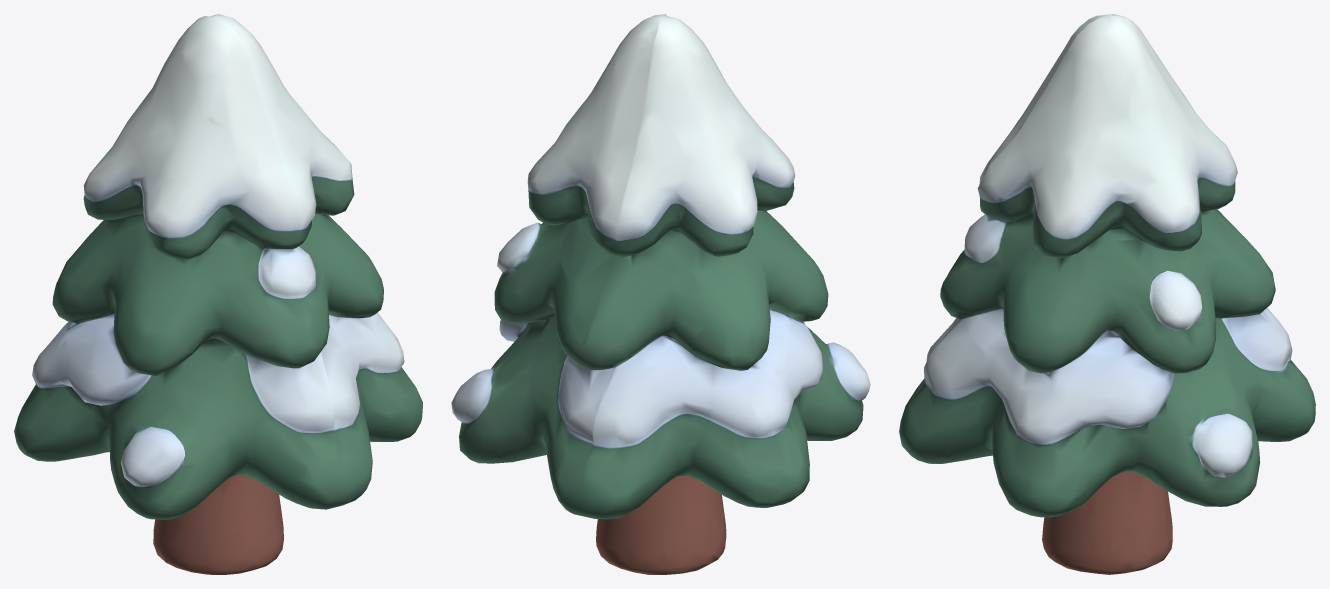
Rendered from tree-c.glb.
3 views of the same model, side by side, from view 1: azimuth 30°, elevation 25°; view 2: azimuth 150°, elevation 25°; view 3: azimuth 270°, elevation 25° (orthographic).
Visible parts, largest first — view 1: tripo_node_309f32ec-0326-4402-adf8-415f1ffa53ca; view 2: tripo_node_309f32ec-0326-4402-adf8-415f1ffa53ca; view 3: tripo_node_309f32ec-0326-4402-adf8-415f1ffa53ca.
Boxes of the visible parts, left/top/right/bottom form: tripo_node_309f32ec-0326-4402-adf8-415f1ffa53ca: left=14, top=14, right=422, bottom=574; tripo_node_309f32ec-0326-4402-adf8-415f1ffa53ca: left=451, top=14, right=870, bottom=574; tripo_node_309f32ec-0326-4402-adf8-415f1ffa53ca: left=899, top=14, right=1315, bottom=574.
Bounding box in the file's own units: 0.6697 × 1 × 0.708.
1 material, 1 textured.
